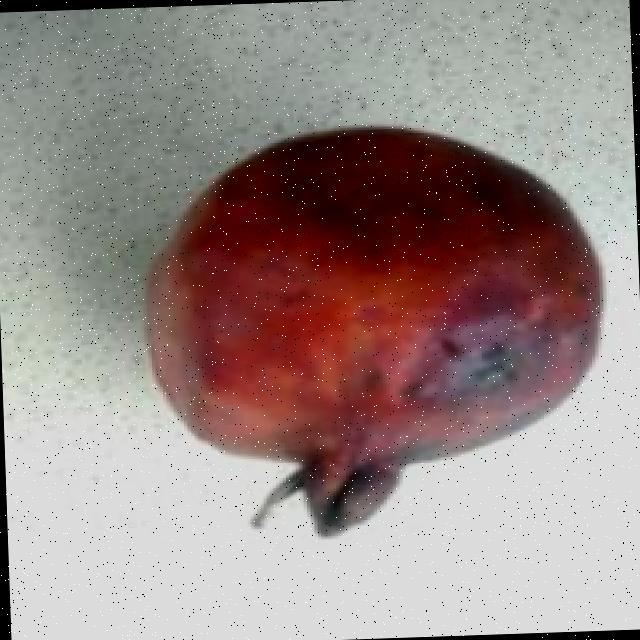Rotten: (132, 116, 614, 543)
